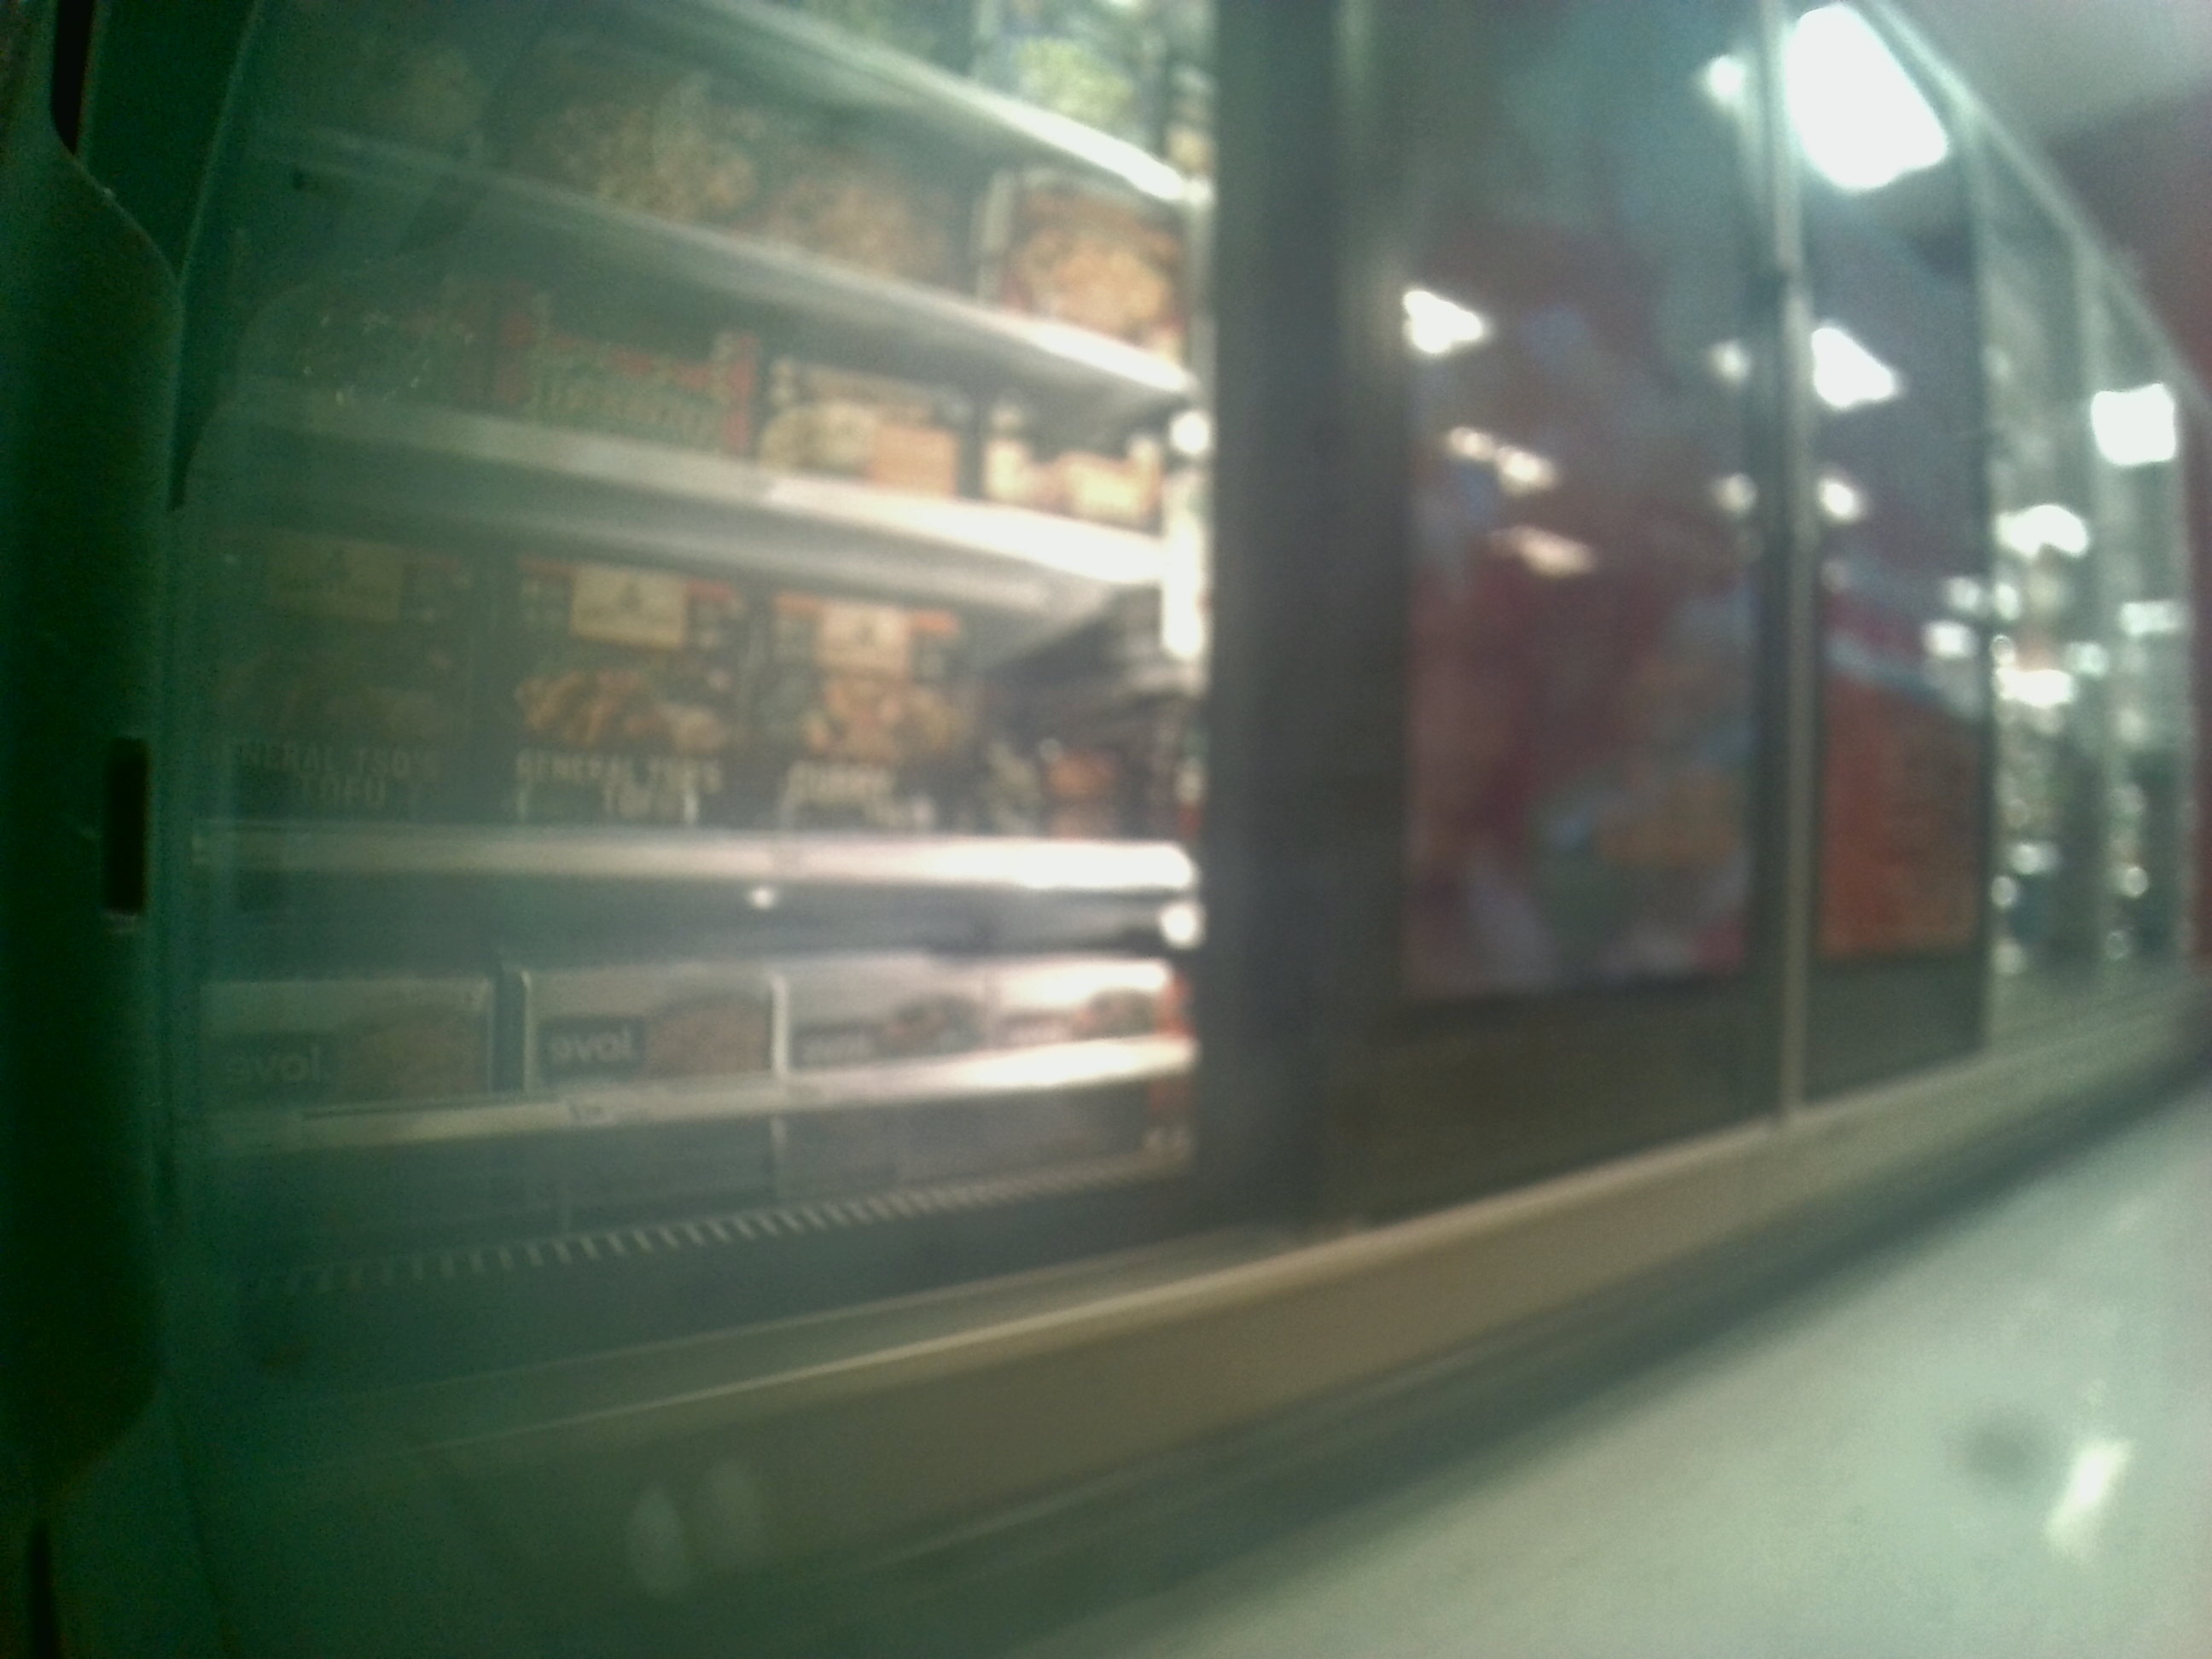frozen-food-shelf: (158, 561, 1235, 892), (158, 894, 1223, 1166)
